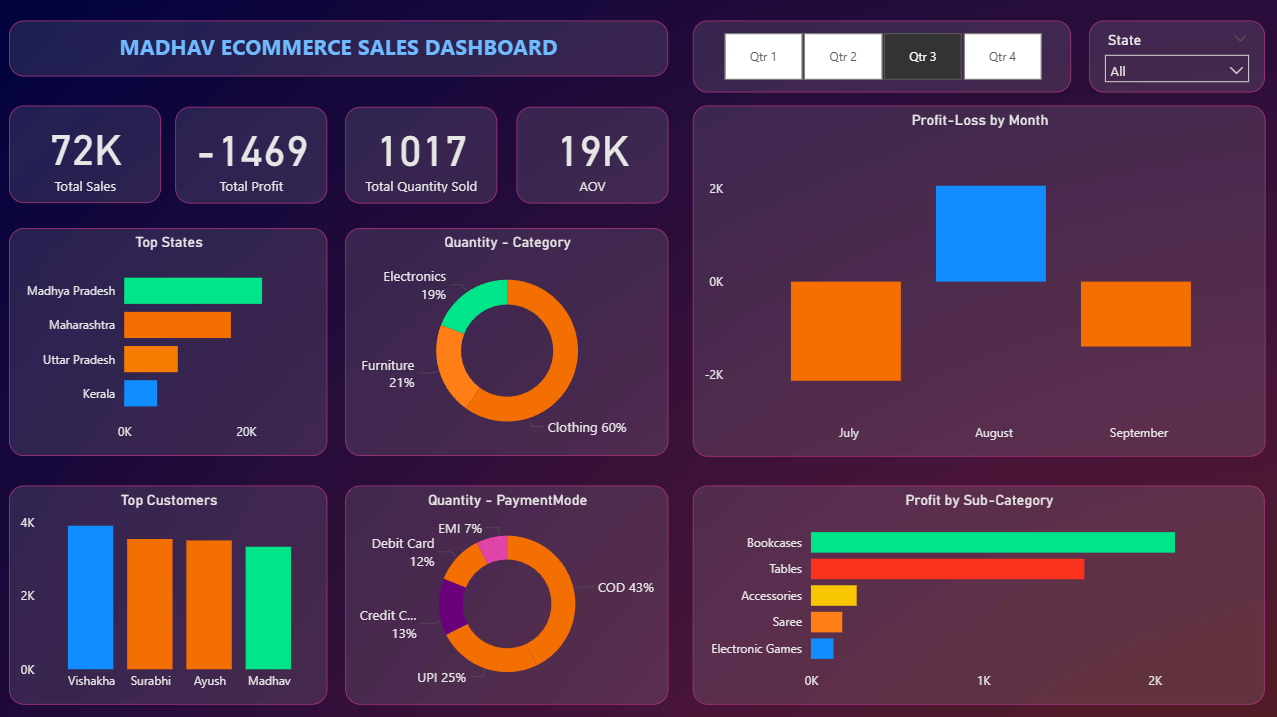

Layout of this report page (visuals, bound fields, positions):
{"tool":"powerbi","page":{"name":"Page 1","canvas":[1280,720],"ordinal":0},"visuals":[{"type":"textbox","box":[10.1,22.8,659.5,55.7],"z":0},{"type":"columnChart","title":"Profit-Loss by Month","fields":{"Category":["Orders.Order Date.Variation.Date Hierarchy.Month"],"Y":["Sum(Details.Profit)"]},"box":[693.7,107.4,573.1,351.1],"z":1000},{"type":"barChart","title":"Profit by Sub-Category","fields":{"Category":["Details.Sub-Category"],"Y":["Sum(Details.Profit)"]},"box":[693.7,487.4,571.9,219.6],"z":2000},{"type":"donutChart","title":"Quantity - Category","fields":{"Category":["Details.Category"],"Y":["Sum(Details.Quantity)"]},"box":[346.2,230.4,323.3,228],"z":3000},{"type":"donutChart","title":"Quantity - PaymentMode","fields":{"Y":["Sum(Details.Quantity)"],"Category":["Details.PaymentMode"]},"box":[346.2,487.4,323.3,219.6],"z":4000},{"type":"card","fields":{"Values":["Sum(Details.Amount)"]},"box":[9.6,107,152.3,97.4],"z":5000},{"type":"card","fields":{"Values":["Sum(Details.Quantity)"]},"box":[346.2,108.6,152,96.5],"z":6000},{"type":"card","fields":{"Values":["Sum(Details.Profit)"]},"box":[176.1,108.6,152,96.5],"z":7000},{"type":"card","fields":{"Values":["Sum(Details.AOV)"]},"box":[517.6,108.6,152,96.5],"z":8000},{"type":"barChart","title":"Top States","fields":{"Category":["Orders.State"],"Y":["Sum(Details.Amount)"]},"box":[9.7,230.4,318.5,228],"z":9000},{"type":"columnChart","title":"Top Customers","fields":{"Category":["Orders.CustomerName"],"Y":["Sum(Details.Amount)"]},"box":[9.7,487.4,318.5,219.6],"z":10000},{"type":"slicer","fields":{"Values":["Orders.Order Date.Variation.Date Hierarchy.Quarter"]},"box":[693.7,22.8,378.5,72.2],"z":11000},{"type":"slicer","fields":{"Values":["Orders.State"]},"box":[1089.9,22.8,175.9,72.2],"z":12000}]}

Visuals, with their boxes in screenshot pixels (x1, y1, x2, y2), scaled from the page's 1280x720 canvas onto the 1277x717 screenshot:
textbox: bbox(10, 23, 668, 78)
"Profit-Loss by Month" columnChart: bbox(692, 107, 1264, 457)
"Profit by Sub-Category" barChart: bbox(692, 485, 1263, 704)
"Quantity - Category" donutChart: bbox(345, 229, 668, 456)
"Quantity - PaymentMode" donutChart: bbox(345, 485, 668, 704)
card - Sum(Details.Amount): bbox(10, 107, 162, 204)
card - Sum(Details.Quantity): bbox(345, 108, 497, 204)
card - Sum(Details.Profit): bbox(176, 108, 327, 204)
card - Sum(Details.AOV): bbox(516, 108, 668, 204)
"Top States" barChart: bbox(10, 229, 327, 456)
"Top Customers" columnChart: bbox(10, 485, 327, 704)
slicer - Orders.Order Date.Variation.Date Hierarchy.Quarter: bbox(692, 23, 1070, 95)
slicer - Orders.State: bbox(1087, 23, 1263, 95)
